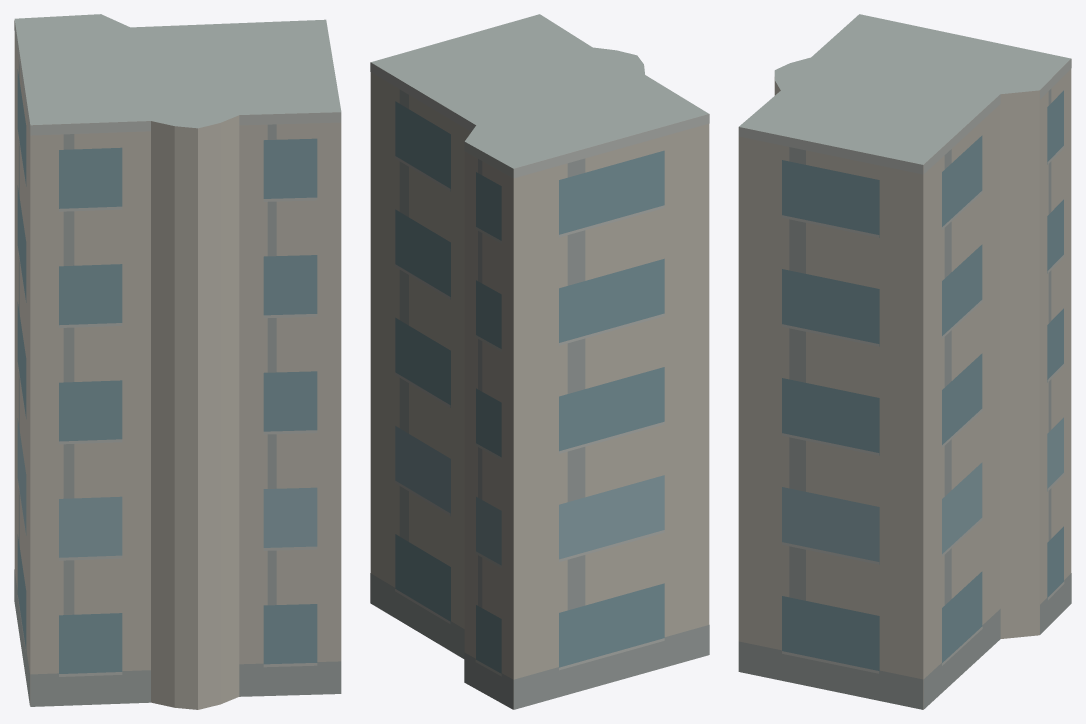
The model's file is survey-upis-32954969.glb.
The picture shows the model from 3 angles, left to right: view 1: azimuth 30°, elevation 25°; view 2: azimuth 150°, elevation 25°; view 3: azimuth 270°, elevation 25°; orthographic projection. The views are drawn at different scales.
Parts seen in each view (by area): view 1: survey-upis-32954969.tmp; view 2: survey-upis-32954969.tmp; view 3: survey-upis-32954969.tmp.
Boxes of the visible parts, x1,y1,x2,y2 form: survey-upis-32954969.tmp: [14, 14, 341, 709]; survey-upis-32954969.tmp: [370, 14, 709, 709]; survey-upis-32954969.tmp: [738, 14, 1071, 709].
Size of the model in its own units: 8.15 by 13.7 by 7.59.
